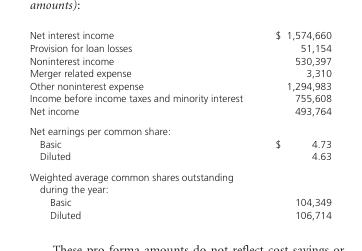table: (28, 29, 330, 220)
table column: (28, 29, 258, 220), (258, 29, 330, 220)
table projected row header: (28, 166, 330, 195), (28, 120, 330, 137)
table row: (28, 166, 330, 195), (28, 120, 330, 137), (28, 149, 330, 166), (28, 104, 330, 120), (28, 53, 330, 66), (28, 66, 330, 79), (28, 91, 330, 104), (28, 207, 330, 220), (28, 29, 330, 41), (28, 41, 330, 53), (28, 79, 330, 91), (28, 137, 330, 149), (28, 195, 330, 207)
